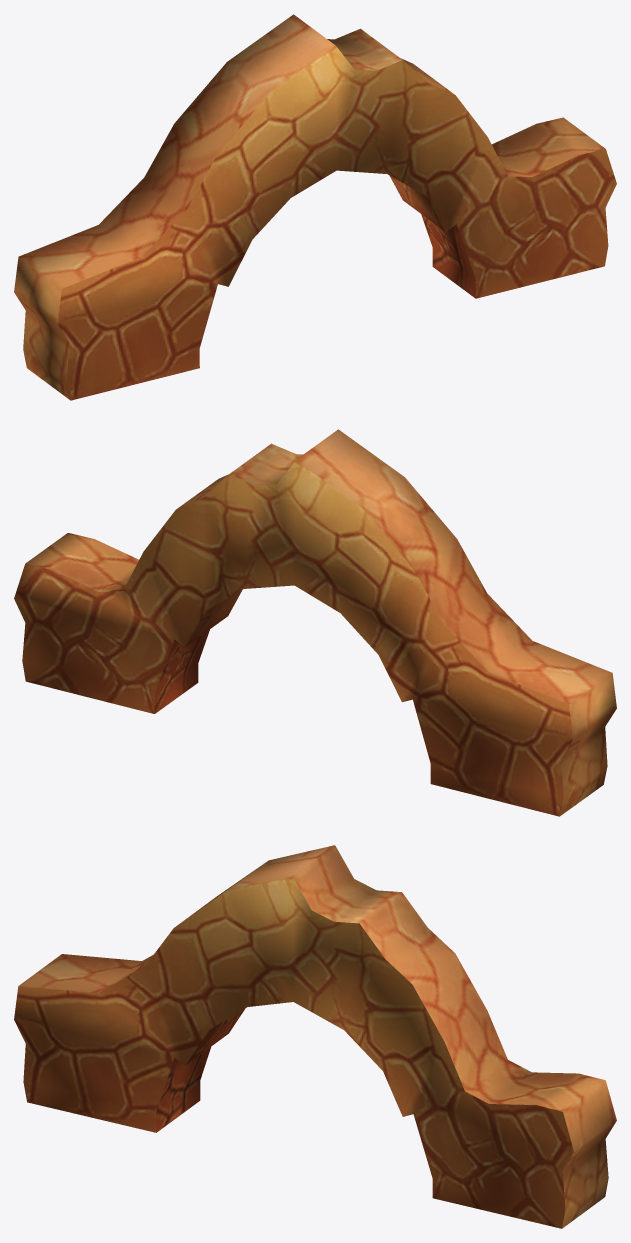
Rendered from sm_yiji2.fbx.
3 views of the same model, one above another, from view 1: azimuth 30°, elevation 25°; view 2: azimuth 150°, elevation 25°; view 3: azimuth 330°, elevation 25° (orthographic).
Visible parts, largest first — view 1: sm_yiji2; view 2: sm_yiji2; view 3: sm_yiji2.
Boxes of the visible parts, bbox=[...] form: sm_yiji2: bbox=[14, 14, 616, 400]; sm_yiji2: bbox=[14, 429, 616, 816]; sm_yiji2: bbox=[14, 845, 616, 1228].
Bounding box in the file's own units: 3682 × 1828 × 502.
